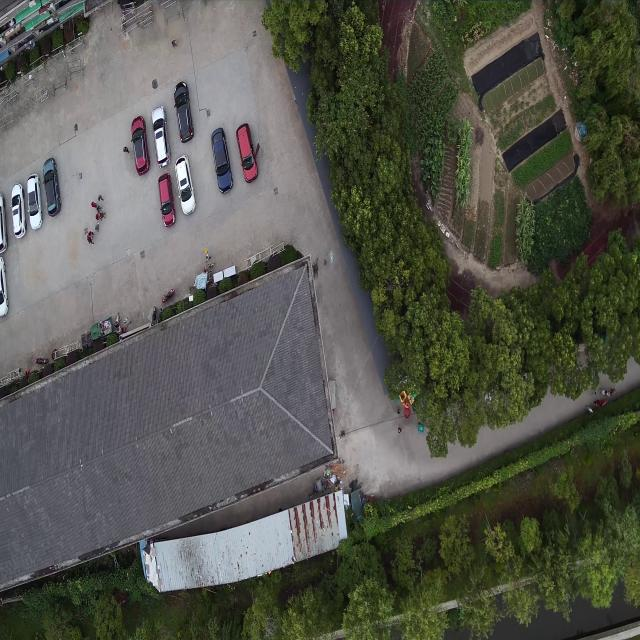UAV: (322, 248, 339, 270)
